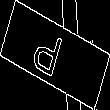P_S: (36, 25, 74, 85)
